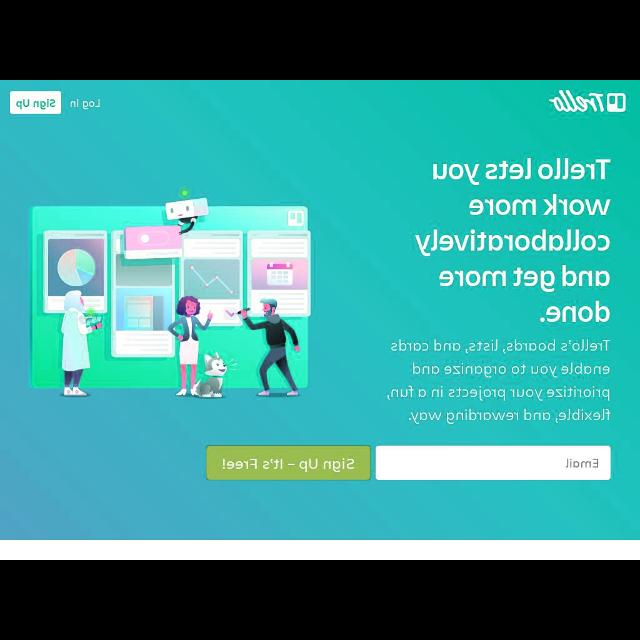image: (29, 186, 310, 398), (548, 88, 626, 115)
input: (376, 446, 610, 482)
text: (414, 157, 612, 323), (386, 338, 612, 424), (222, 456, 354, 472), (16, 98, 56, 110), (564, 458, 600, 470), (70, 98, 102, 110)
textbutton: (206, 447, 370, 481), (8, 90, 62, 114)
